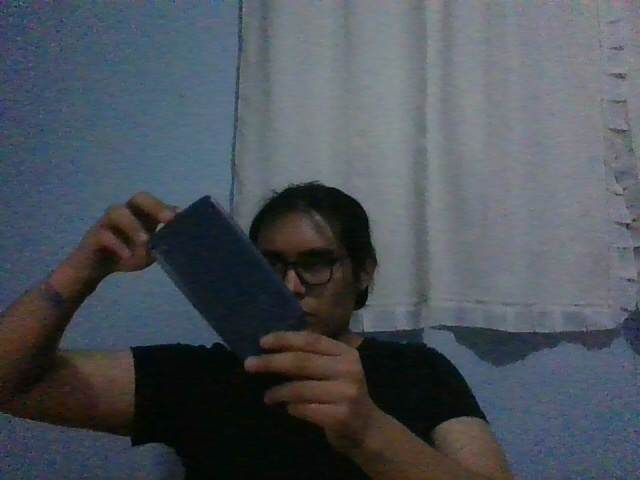calculadora: (148, 195, 306, 357)
